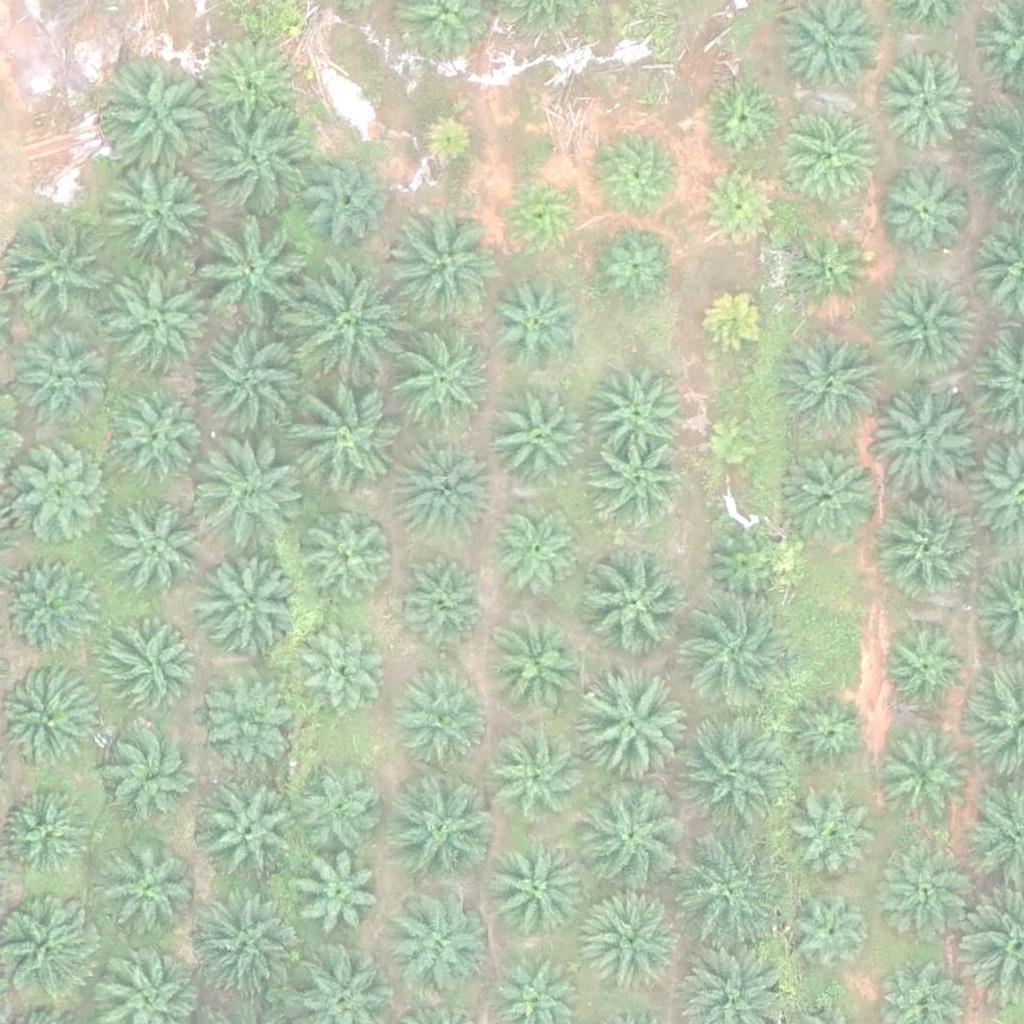Kelapa_Sawit: (774, 324, 887, 438), (681, 717, 794, 831), (578, 545, 691, 659), (872, 390, 985, 503), (571, 673, 684, 786), (193, 325, 306, 438), (187, 894, 300, 1007), (290, 272, 403, 385), (196, 221, 309, 334), (101, 64, 214, 177), (192, 442, 304, 556), (684, 596, 796, 709), (672, 836, 784, 949), (574, 780, 686, 893), (286, 381, 398, 494), (387, 208, 499, 321), (202, 104, 314, 217), (104, 254, 216, 367), (873, 277, 973, 378), (886, 500, 986, 601), (787, 441, 887, 542), (587, 361, 687, 462), (481, 274, 581, 375), (488, 390, 588, 491), (488, 614, 588, 715), (490, 731, 590, 832), (486, 842, 586, 943), (394, 330, 494, 431), (391, 663, 491, 764), (390, 782, 490, 883), (387, 891, 487, 992), (299, 503, 399, 604), (199, 558, 299, 659), (203, 787, 303, 888), (104, 500, 204, 601), (96, 620, 196, 721), (101, 720, 201, 821), (2, 555, 102, 656), (879, 45, 979, 146), (872, 168, 972, 269), (776, 105, 876, 206), (201, 34, 301, 135), (109, 168, 209, 269), (584, 889, 684, 989), (390, 445, 490, 545), (195, 670, 295, 770), (5, 450, 105, 550), (491, 512, 579, 601), (881, 846, 969, 934), (790, 797, 878, 885), (786, 891, 874, 979), (704, 526, 792, 614), (596, 441, 684, 529), (396, 556, 484, 644), (1, 796, 89, 884), (595, 129, 683, 217), (595, 221, 683, 309), (693, 161, 781, 249), (701, 72, 789, 160), (308, 154, 396, 242), (882, 627, 969, 716), (886, 742, 973, 830), (785, 694, 872, 782), (297, 624, 384, 712), (297, 765, 384, 853), (294, 853, 381, 941), (116, 395, 203, 483), (105, 848, 192, 936), (18, 340, 105, 428), (496, 171, 583, 259), (786, 221, 873, 309), (698, 283, 773, 359), (413, 112, 476, 175), (703, 412, 765, 475)
